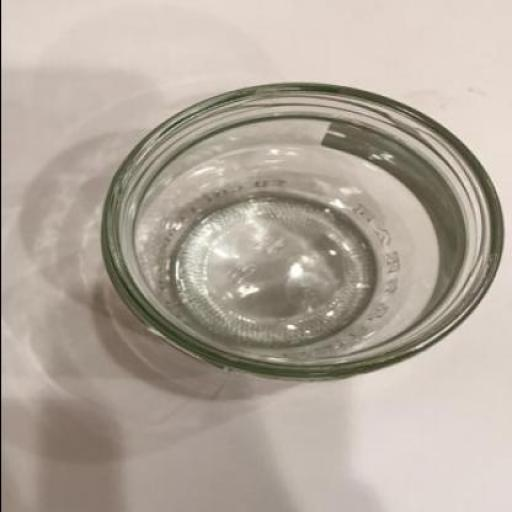glass: (102, 81, 505, 382)
